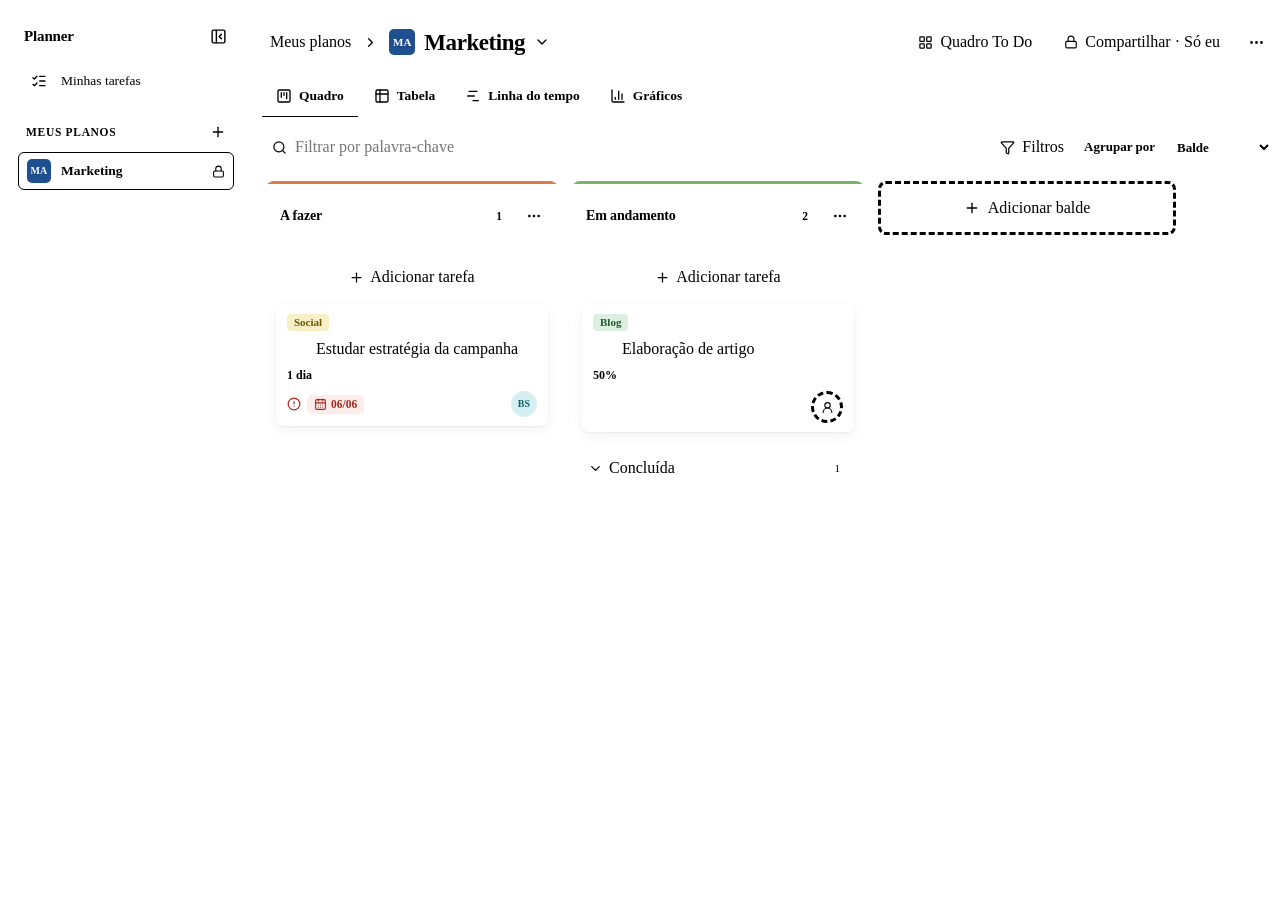
it: Planner no formato Microsoft Planner › os filtros escondem status e contam o que está ativo
Expected: the heading "Marketing" is shown, top-left (424, 29), bottom-right (525, 55)
Expected: the button "Estudar estratégia da campanha" is shown, top-left (316, 340), bottom-right (537, 358)
Click the button "Filtros": {"x": 1032, "y": 147} top-left (988, 129), bottom-right (1076, 165)
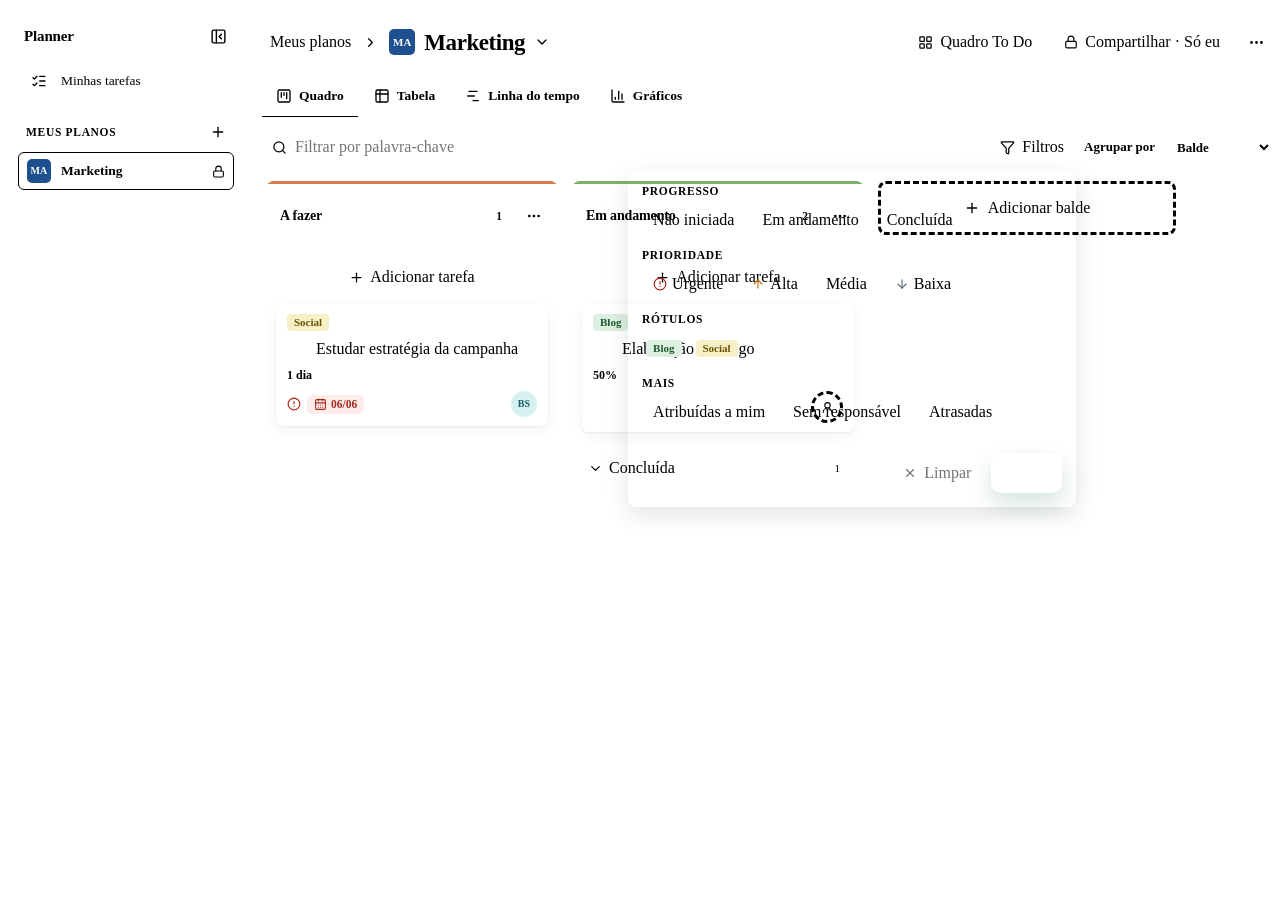
Click the button "Não iniciada": {"x": 694, "y": 220} top-left (642, 205), bottom-right (745, 235)
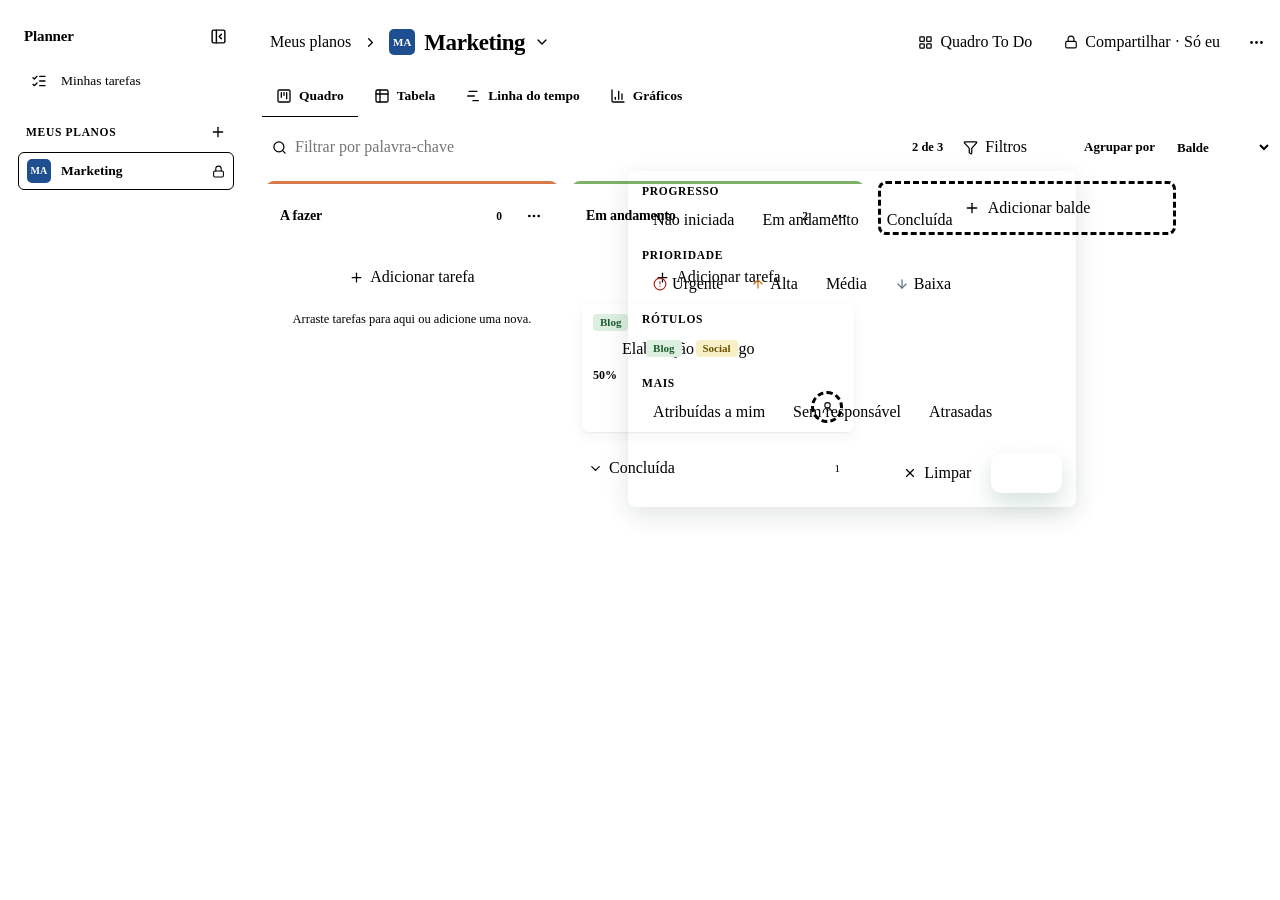
Now the button "Filtros 1" is shown, box top-left (951, 129), bottom-right (1076, 165)
Now the button "Estudar estratégia da campanha" is gone
Now the text "2 de 3" is shown, box top-left (912, 140), bottom-right (943, 154)
Click the button "Limpar": {"x": 937, "y": 473} top-left (891, 455), bottom-right (983, 491)
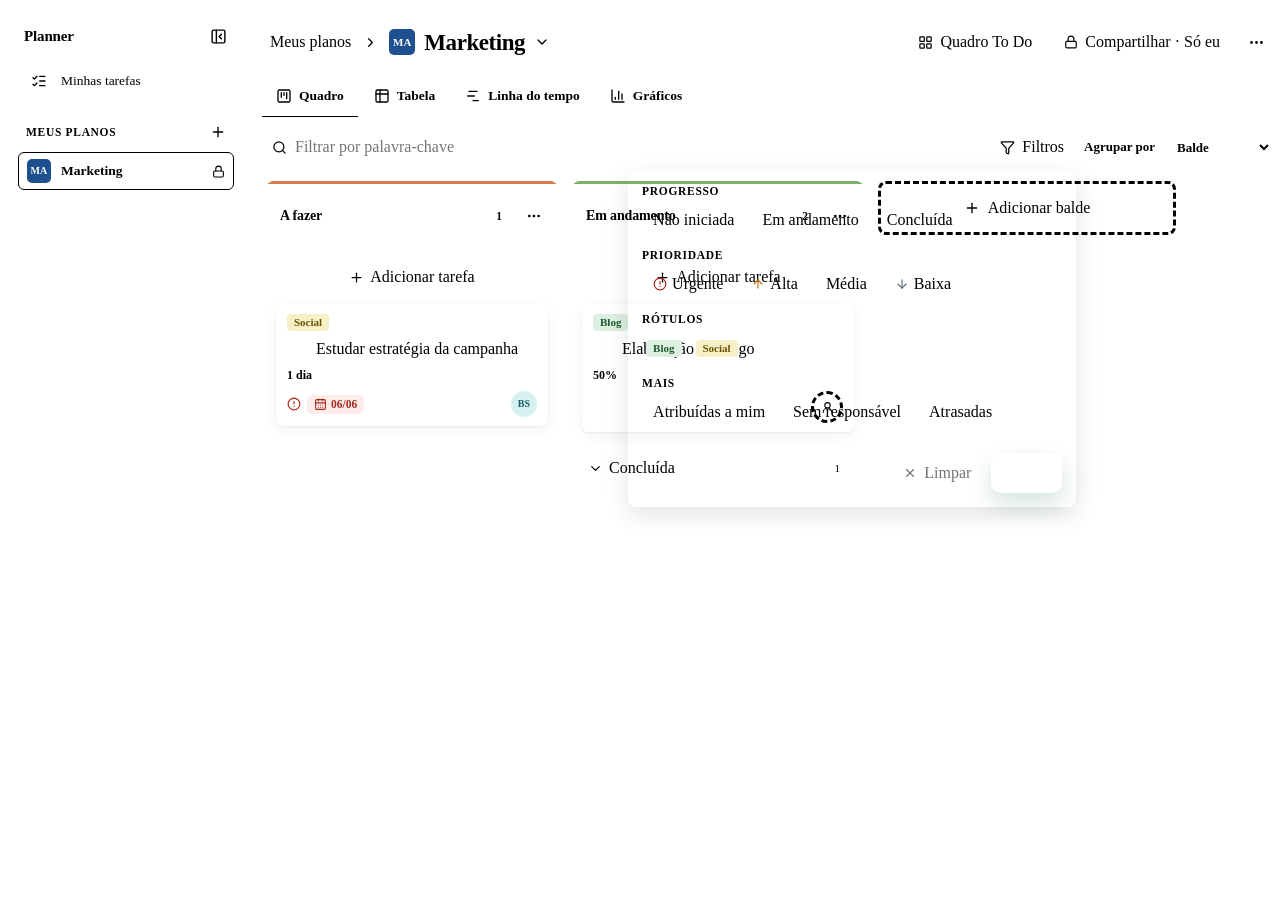
Now the button "Estudar estratégia da campanha" is shown, box top-left (316, 340), bottom-right (537, 358)
